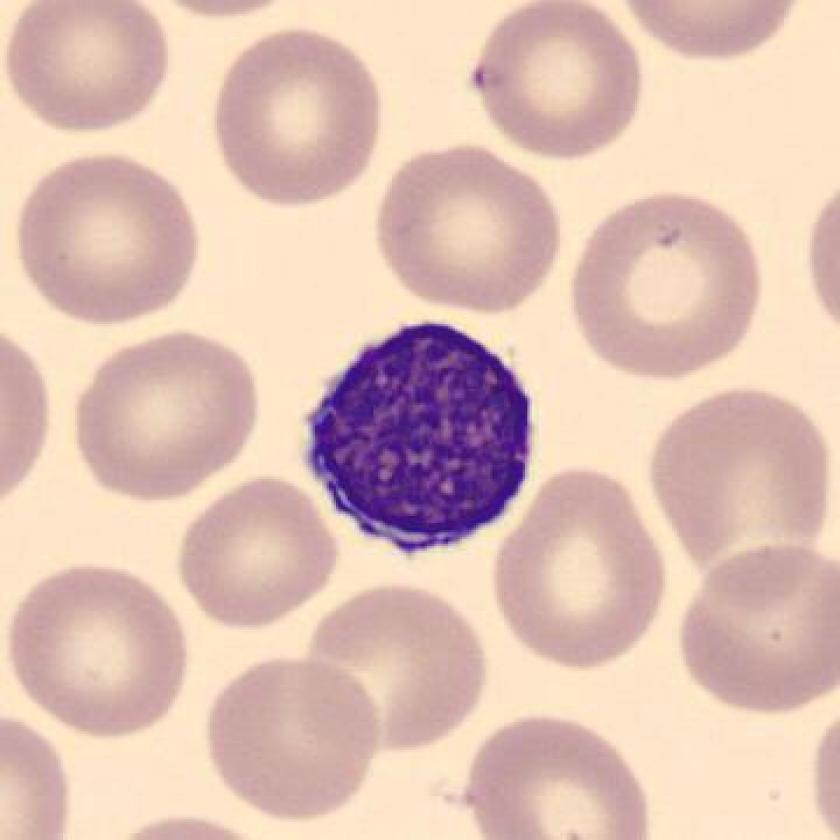lymphocyte: (290, 309, 554, 566)
